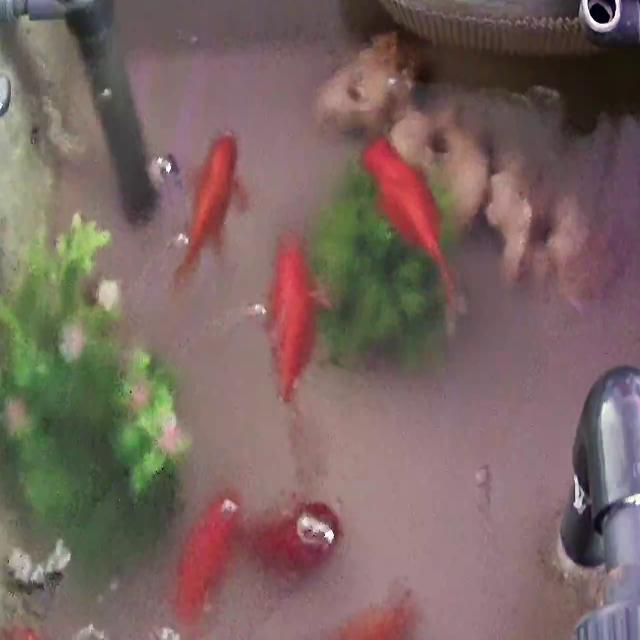fish: (363, 134, 455, 321), (169, 131, 246, 292), (264, 235, 326, 407), (174, 491, 245, 626), (254, 498, 338, 580), (316, 596, 413, 640)
